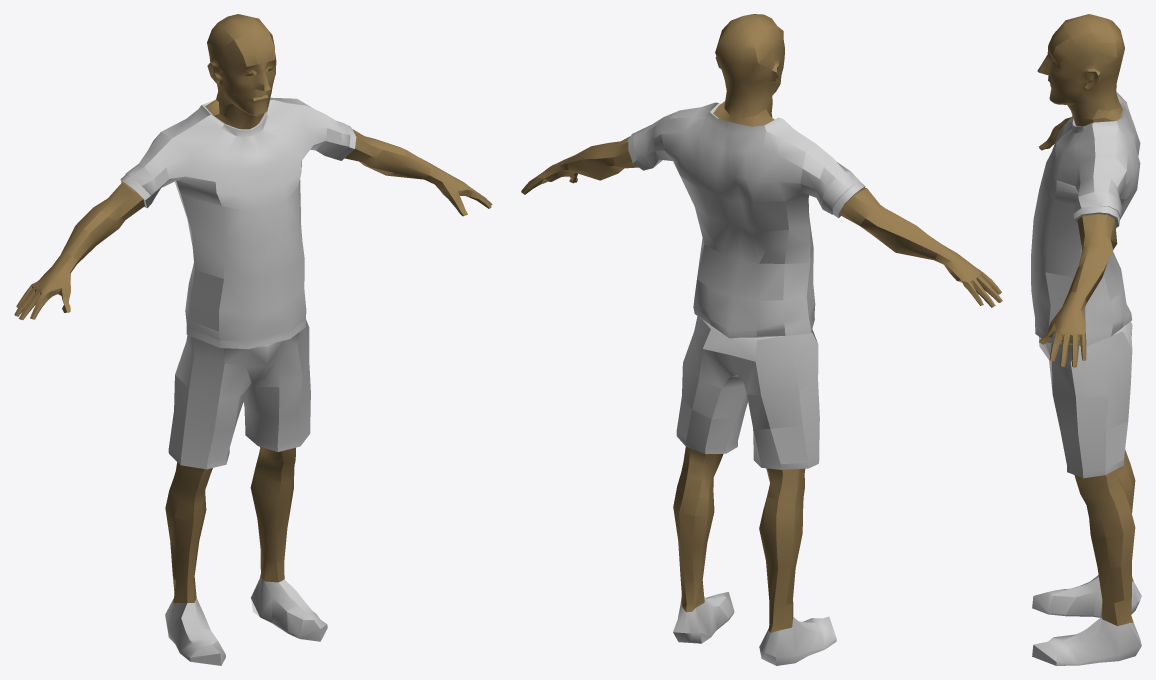
File: lowman.fbx
3 views of the same model, side by side, from view 1: azimuth 30°, elevation 25°; view 2: azimuth 150°, elevation 25°; view 3: azimuth 270°, elevation 25° (orthographic).
Parts seen in each view (by area): view 1: Mesh; view 2: Mesh; view 3: Mesh.
Boxes of the visible parts, <box> form: Mesh: <box>14,14,492,665</box>; Mesh: <box>521,14,1002,665</box>; Mesh: <box>1031,14,1141,665</box>.
Size of the model in its own units: 246 by 307 by 49.99.
